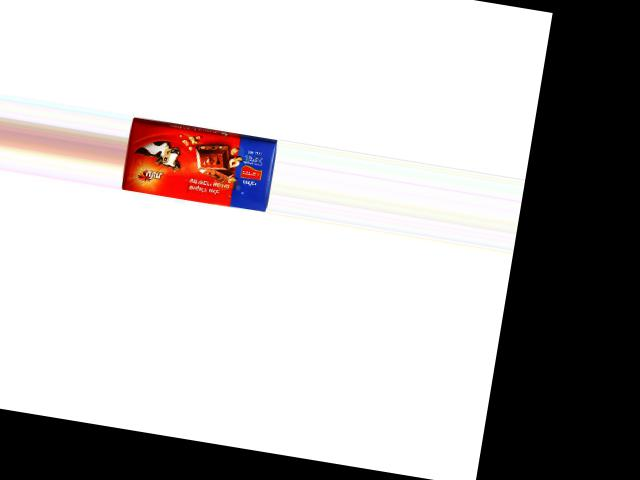chocolate: (120, 116, 277, 212)
